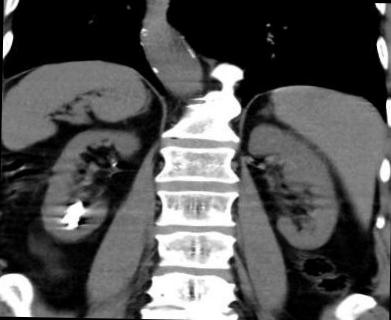Tas_Var: (54, 197, 88, 234), (111, 163, 120, 169), (108, 157, 115, 163)
